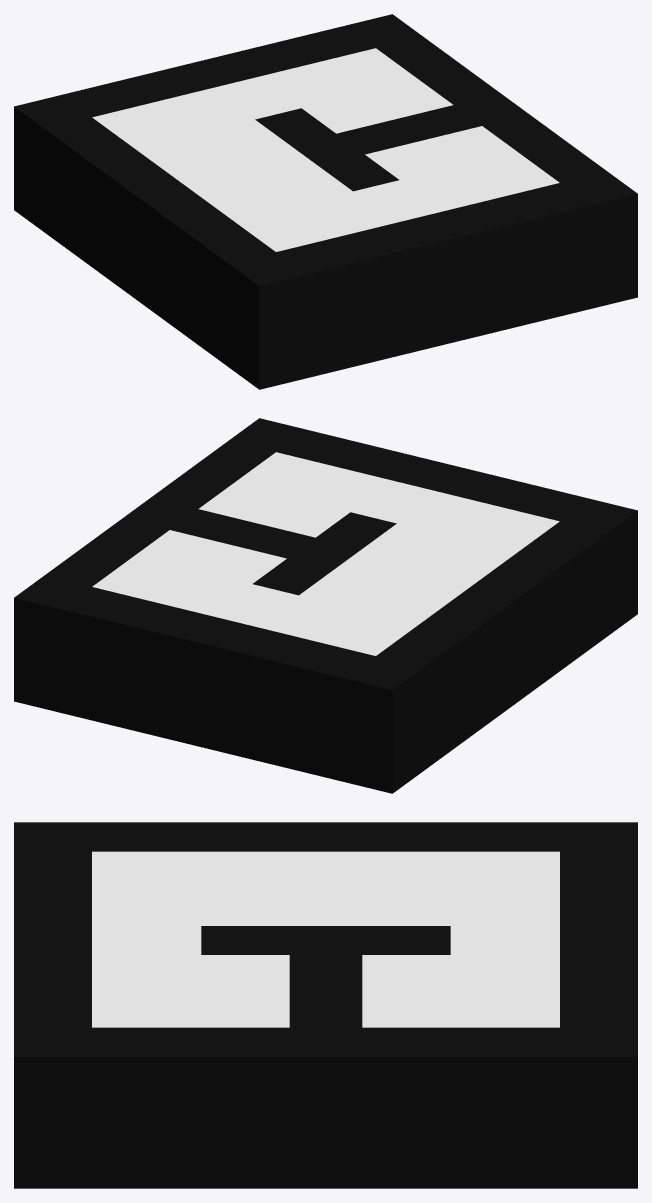
File: Font_Letter_C_01.fbx
3 views of the same model, one above another, from view 1: azimuth 30°, elevation 25°; view 2: azimuth 150°, elevation 25°; view 3: azimuth 270°, elevation 25° (orthographic). The views are drawn at different scales.
Visible parts, largest first — view 1: Font_Letter_C_01; view 2: Font_Letter_C_01; view 3: Font_Letter_C_01.
Part boxes in pixels (x1=…): Font_Letter_C_01: x1=14, y1=14, x2=637, y2=389; Font_Letter_C_01: x1=14, y1=418, x2=637, y2=793; Font_Letter_C_01: x1=14, y1=822, x2=637, y2=1188.
Bounding box in the file's own units: 74.41 × 19.48 × 83.57.
